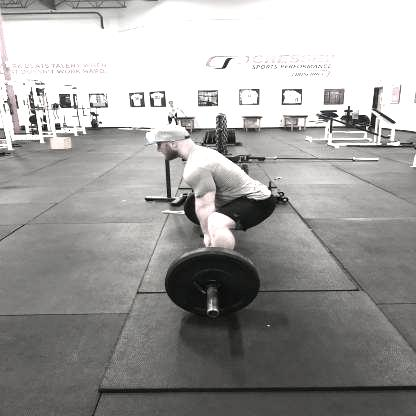Barbell: (202, 304, 224, 322)
